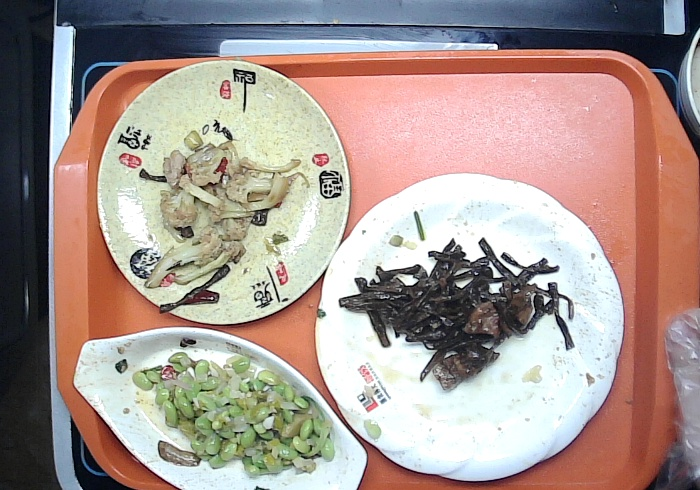NLDX-Bai_Zhe_Yuan_Pan: (316, 172, 623, 481)
NLDX-Fu_Zi_Yuan_Pan: (96, 59, 351, 326)
NLDX-Yu_Pan: (70, 326, 369, 490)
